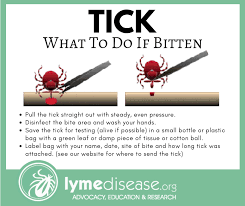Bed Bug: (38, 36, 51, 43), (89, 52, 105, 57), (57, 82, 63, 89)
Fire ant: (20, 30, 31, 39)
Tick: (195, 100, 204, 111)
